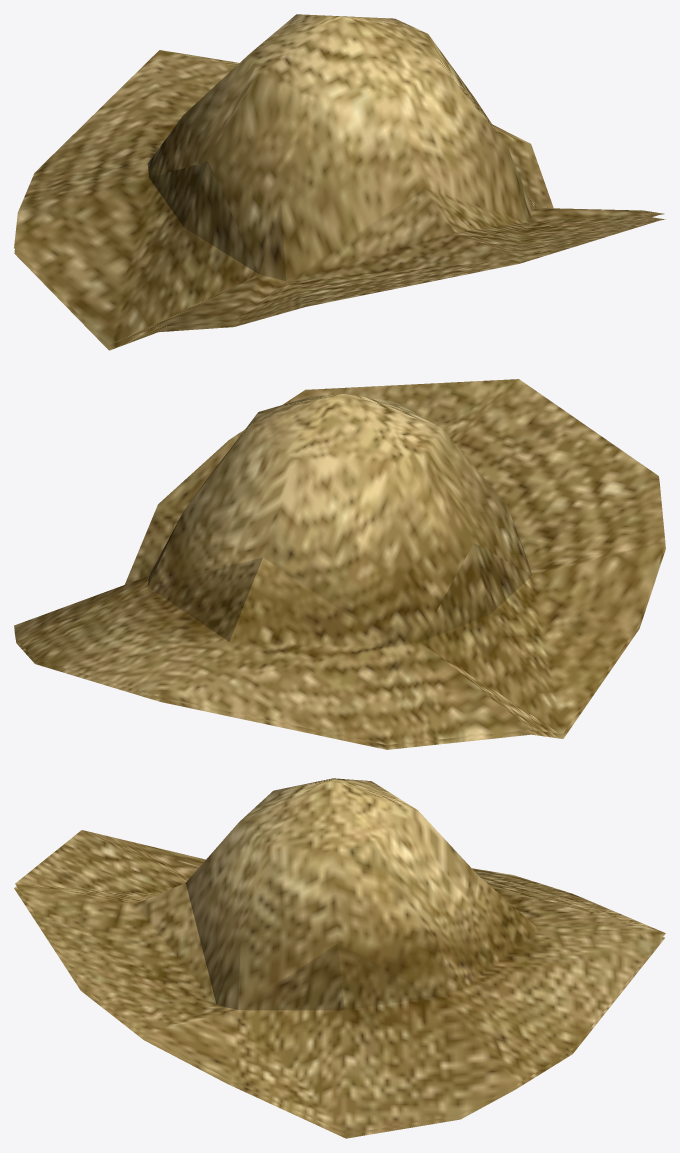
The model's file is helm_hele_straw_02.glb.
3 views of the same model, one above another, from view 1: azimuth 30°, elevation 25°; view 2: azimuth 150°, elevation 25°; view 3: azimuth 270°, elevation 25° (orthographic). The views are drawn at different scales.
Visible parts, largest first — view 1: helm_hele_straw_02_part0; view 2: helm_hele_straw_02_part0; view 3: helm_hele_straw_02_part0.
Boxes of the visible parts, x1=… form: helm_hele_straw_02_part0: x1=14, y1=14, x2=665, y2=350; helm_hele_straw_02_part0: x1=14, y1=379, x2=665, y2=749; helm_hele_straw_02_part0: x1=14, y1=778, x2=665, y2=1138.
Size of the model in its own units: 0.8501 by 0.4459 by 1.03.
Materials: 1 (1 with a texture image).
